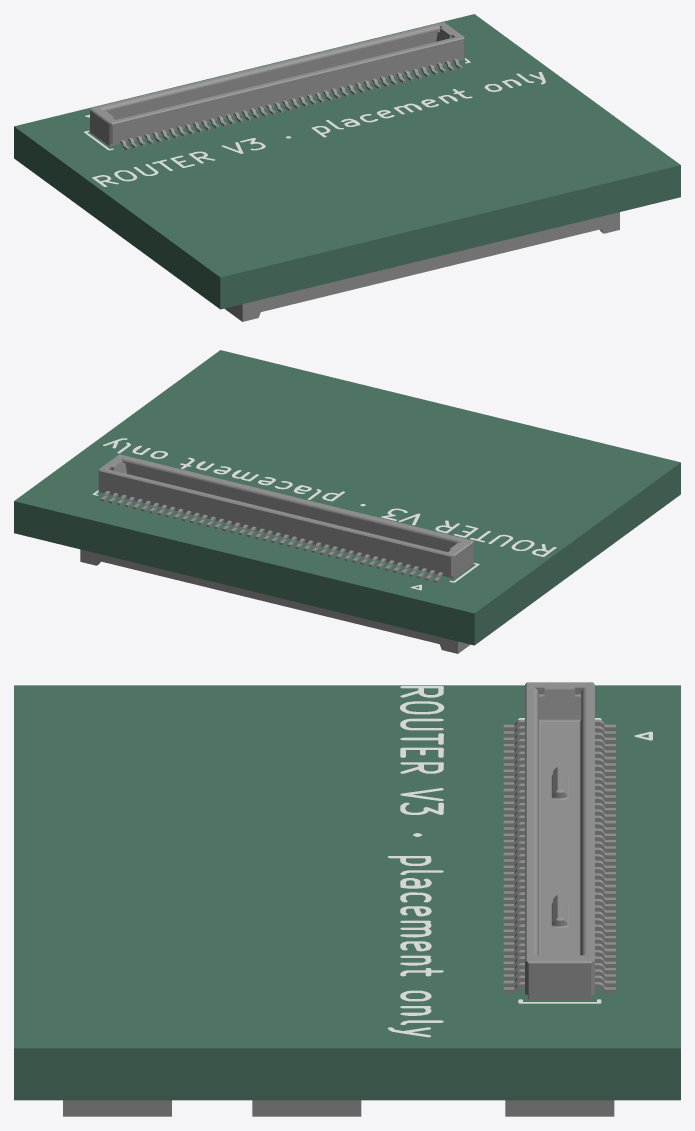
Rendered from optb-router-v3-placement.glb.
The picture shows the model from 3 angles, top to bottom: view 1: azimuth 30°, elevation 25°; view 2: azimuth 150°, elevation 25°; view 3: azimuth 270°, elevation 25°; orthographic projection. The views are drawn at different scales.
Visible parts, largest first — view 1: =>[0:1:1:8], =>[0:1:1:3], =>[0:1:1:5], =>[0:1:1:6]; view 2: =>[0:1:1:8], =>[0:1:1:3], =>[0:1:1:5], =>[0:1:1:6]; view 3: =>[0:1:1:8], =>[0:1:1:3], =>[0:1:1:5] (×3), =>[0:1:1:6].
Boxes of the visible parts, x1,y1,x2,y2 form: =>[0:1:1:8]: (14,14,680,309); =>[0:1:1:3]: (90,22,464,150); =>[0:1:1:5]: (225,212,619,321); =>[0:1:1:6]: (84,58,545,186); =>[0:1:1:8]: (14,350,680,645); =>[0:1:1:3]: (98,454,473,582); =>[0:1:1:5]: (80,549,469,653); =>[0:1:1:6]: (92,438,556,590); =>[0:1:1:8]: (14,685,680,1100); =>[0:1:1:3]: (503,682,615,998); =>[0:1:1:5] (×3): (63,1100,614,1116); =>[0:1:1:6]: (387,686,652,1037).
Bounding box in the file's own units: 0.0227 × 0.00427 × 0.0176.
